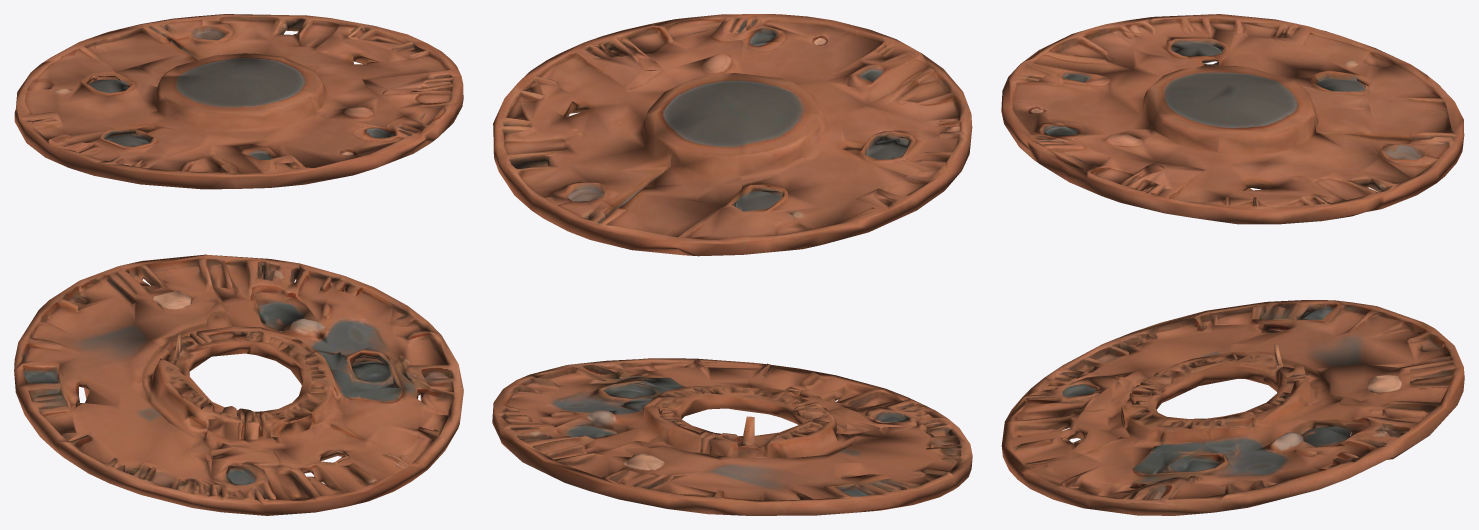
File: empty.glb
The picture shows the model from 3 angles, left to right: view 1: azimuth 30°, elevation 25°; view 2: azimuth 150°, elevation 25°; view 3: azimuth 270°, elevation 25°; orthographic projection. The views are drawn at different scales.
Visible parts, largest first — view 1: empty; view 2: empty; view 3: empty.
Boxes of the visible parts, x1,y1,x2,y2 form: empty: (14, 14, 463, 515); empty: (492, 14, 972, 515); empty: (1001, 14, 1464, 515).
Size of the model in its own units: 0.9755 by 0.8316 by 0.9753.
1 material, 1 textured.
